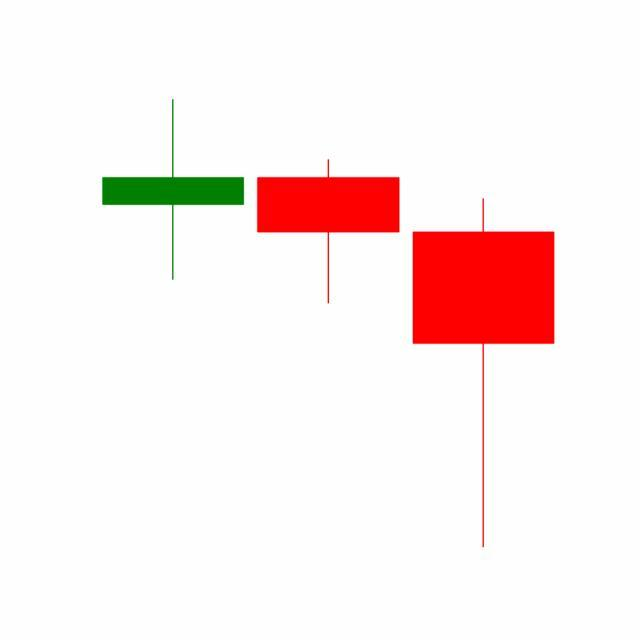Dragonfly Doji: (250, 158, 407, 307)
